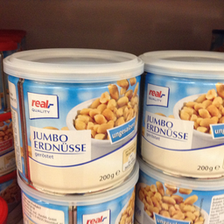nuts: (2, 47, 145, 197), (140, 50, 224, 180)
